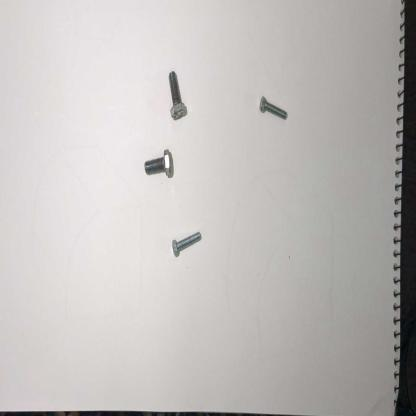Bolts: (163, 68, 187, 126), (144, 145, 174, 190), (169, 225, 203, 264), (256, 90, 288, 128)
